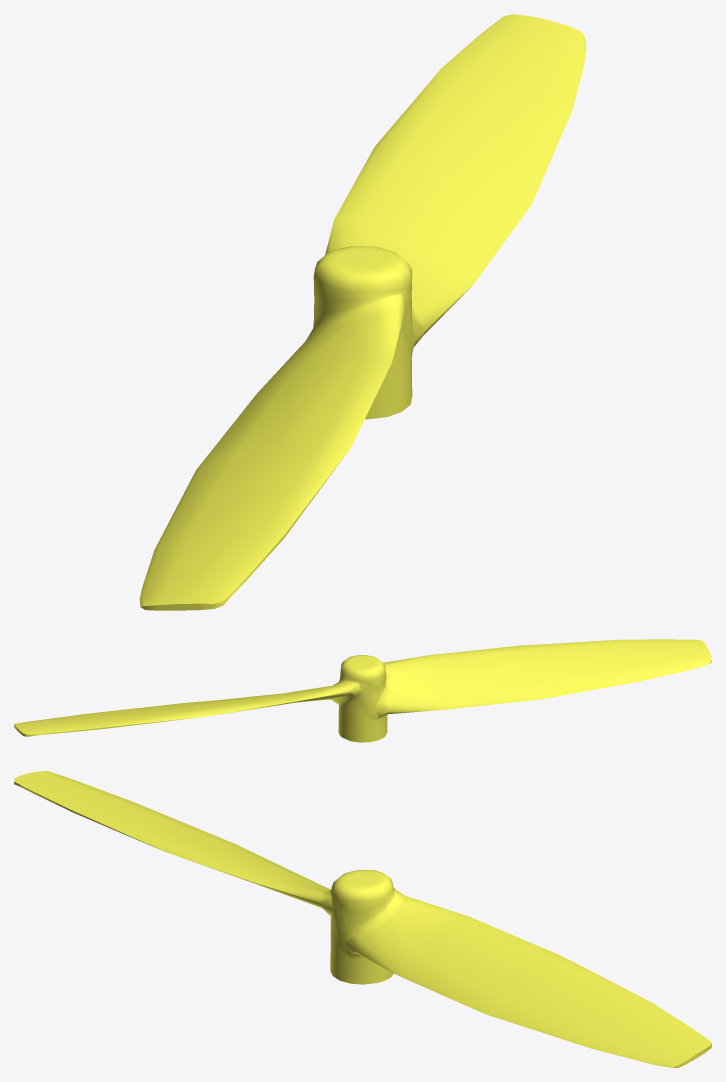
Rendered from propeller_rl.dae.
The picture shows the model from 3 angles, top to bottom: view 1: azimuth 30°, elevation 25°; view 2: azimuth 150°, elevation 25°; view 3: azimuth 270°, elevation 25°; orthographic projection. The views are drawn at different scales.
Parts seen in each view (by area): view 1: Helice_Arriere_Gauche; view 2: Helice_Arriere_Gauche; view 3: Helice_Arriere_Gauche.
Boxes of the visible parts, x1=… form: Helice_Arriere_Gauche: x1=139, y1=14, x2=586, y2=610; Helice_Arriere_Gauche: x1=14, y1=639, x2=711, y2=742; Helice_Arriere_Gauche: x1=14, y1=771, x2=711, y2=1067.
Bounding box in the file's own units: 0.0493 × 0.0493 × 0.00715.
